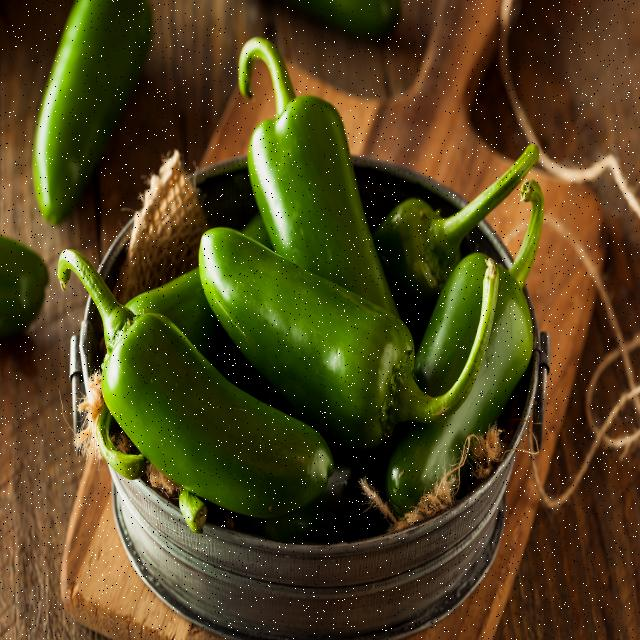Chili Pepper: (57, 249, 332, 517), (199, 227, 501, 453), (238, 36, 398, 315)
